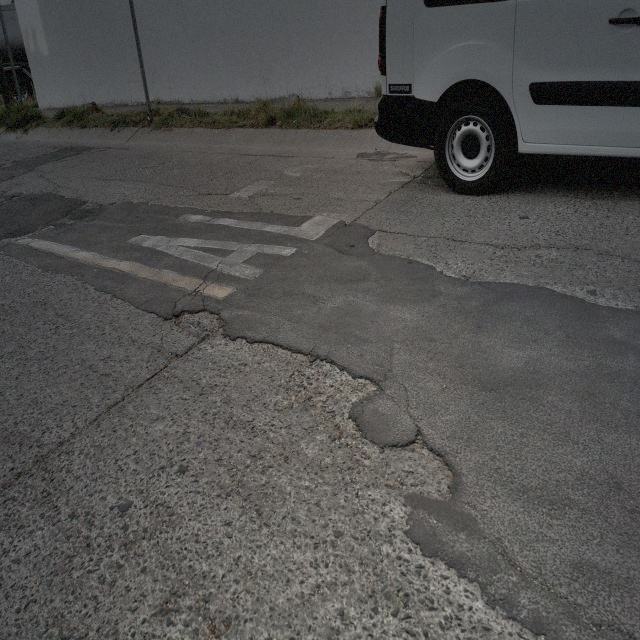pothole: (367, 423, 459, 509), (298, 342, 380, 427), (170, 310, 226, 345)
